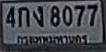0: (62, 5, 72, 25)
4: (6, 6, 14, 27)
7: (87, 4, 97, 26), (74, 4, 84, 26)
8: (50, 5, 59, 26)
A01: (17, 6, 29, 26)
A07: (32, 5, 43, 26)
BKK: (14, 32, 89, 46)
